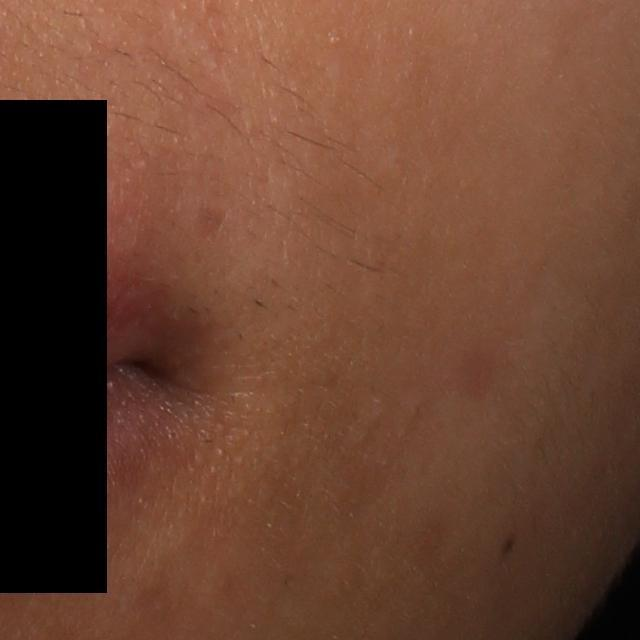nevus: (497, 531, 518, 559)
